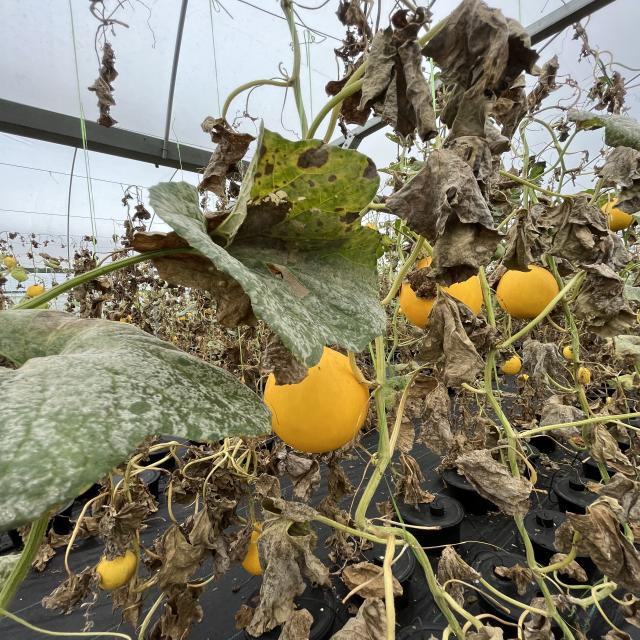CMV: (0, 295, 275, 531), (146, 196, 394, 381)
alternaria leaf blight: (215, 122, 384, 237)
bacterial wilt: (376, 143, 494, 231), (436, 1, 537, 88), (358, 13, 430, 128), (237, 526, 305, 640), (554, 494, 634, 579), (424, 296, 498, 380), (409, 231, 492, 297), (452, 445, 530, 513), (545, 197, 614, 266), (575, 273, 640, 333), (102, 487, 156, 548), (180, 497, 231, 559), (414, 384, 458, 453), (85, 51, 124, 128), (202, 118, 246, 183), (43, 565, 94, 619), (158, 583, 207, 637), (152, 533, 194, 594), (318, 603, 387, 640), (499, 208, 548, 259), (578, 144, 636, 187), (386, 446, 426, 504), (284, 462, 330, 506), (438, 544, 475, 595), (186, 464, 248, 493), (326, 457, 358, 506), (582, 114, 640, 140), (343, 560, 380, 598), (322, 528, 362, 559)
